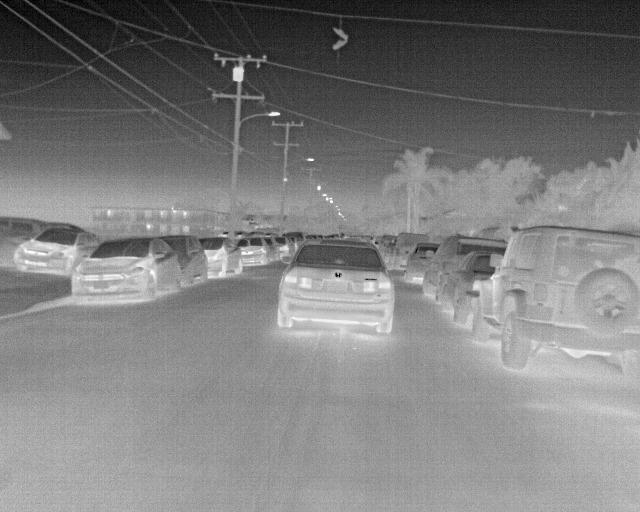car: (466, 224, 637, 383), (275, 238, 394, 337), (72, 240, 180, 305), (438, 248, 508, 331), (424, 236, 508, 297), (10, 224, 95, 275), (161, 233, 209, 284), (201, 234, 240, 280), (403, 241, 439, 285), (388, 229, 425, 269), (0, 214, 44, 240), (240, 237, 271, 269), (377, 234, 396, 264), (262, 236, 281, 262), (275, 236, 293, 258), (284, 232, 305, 248)
